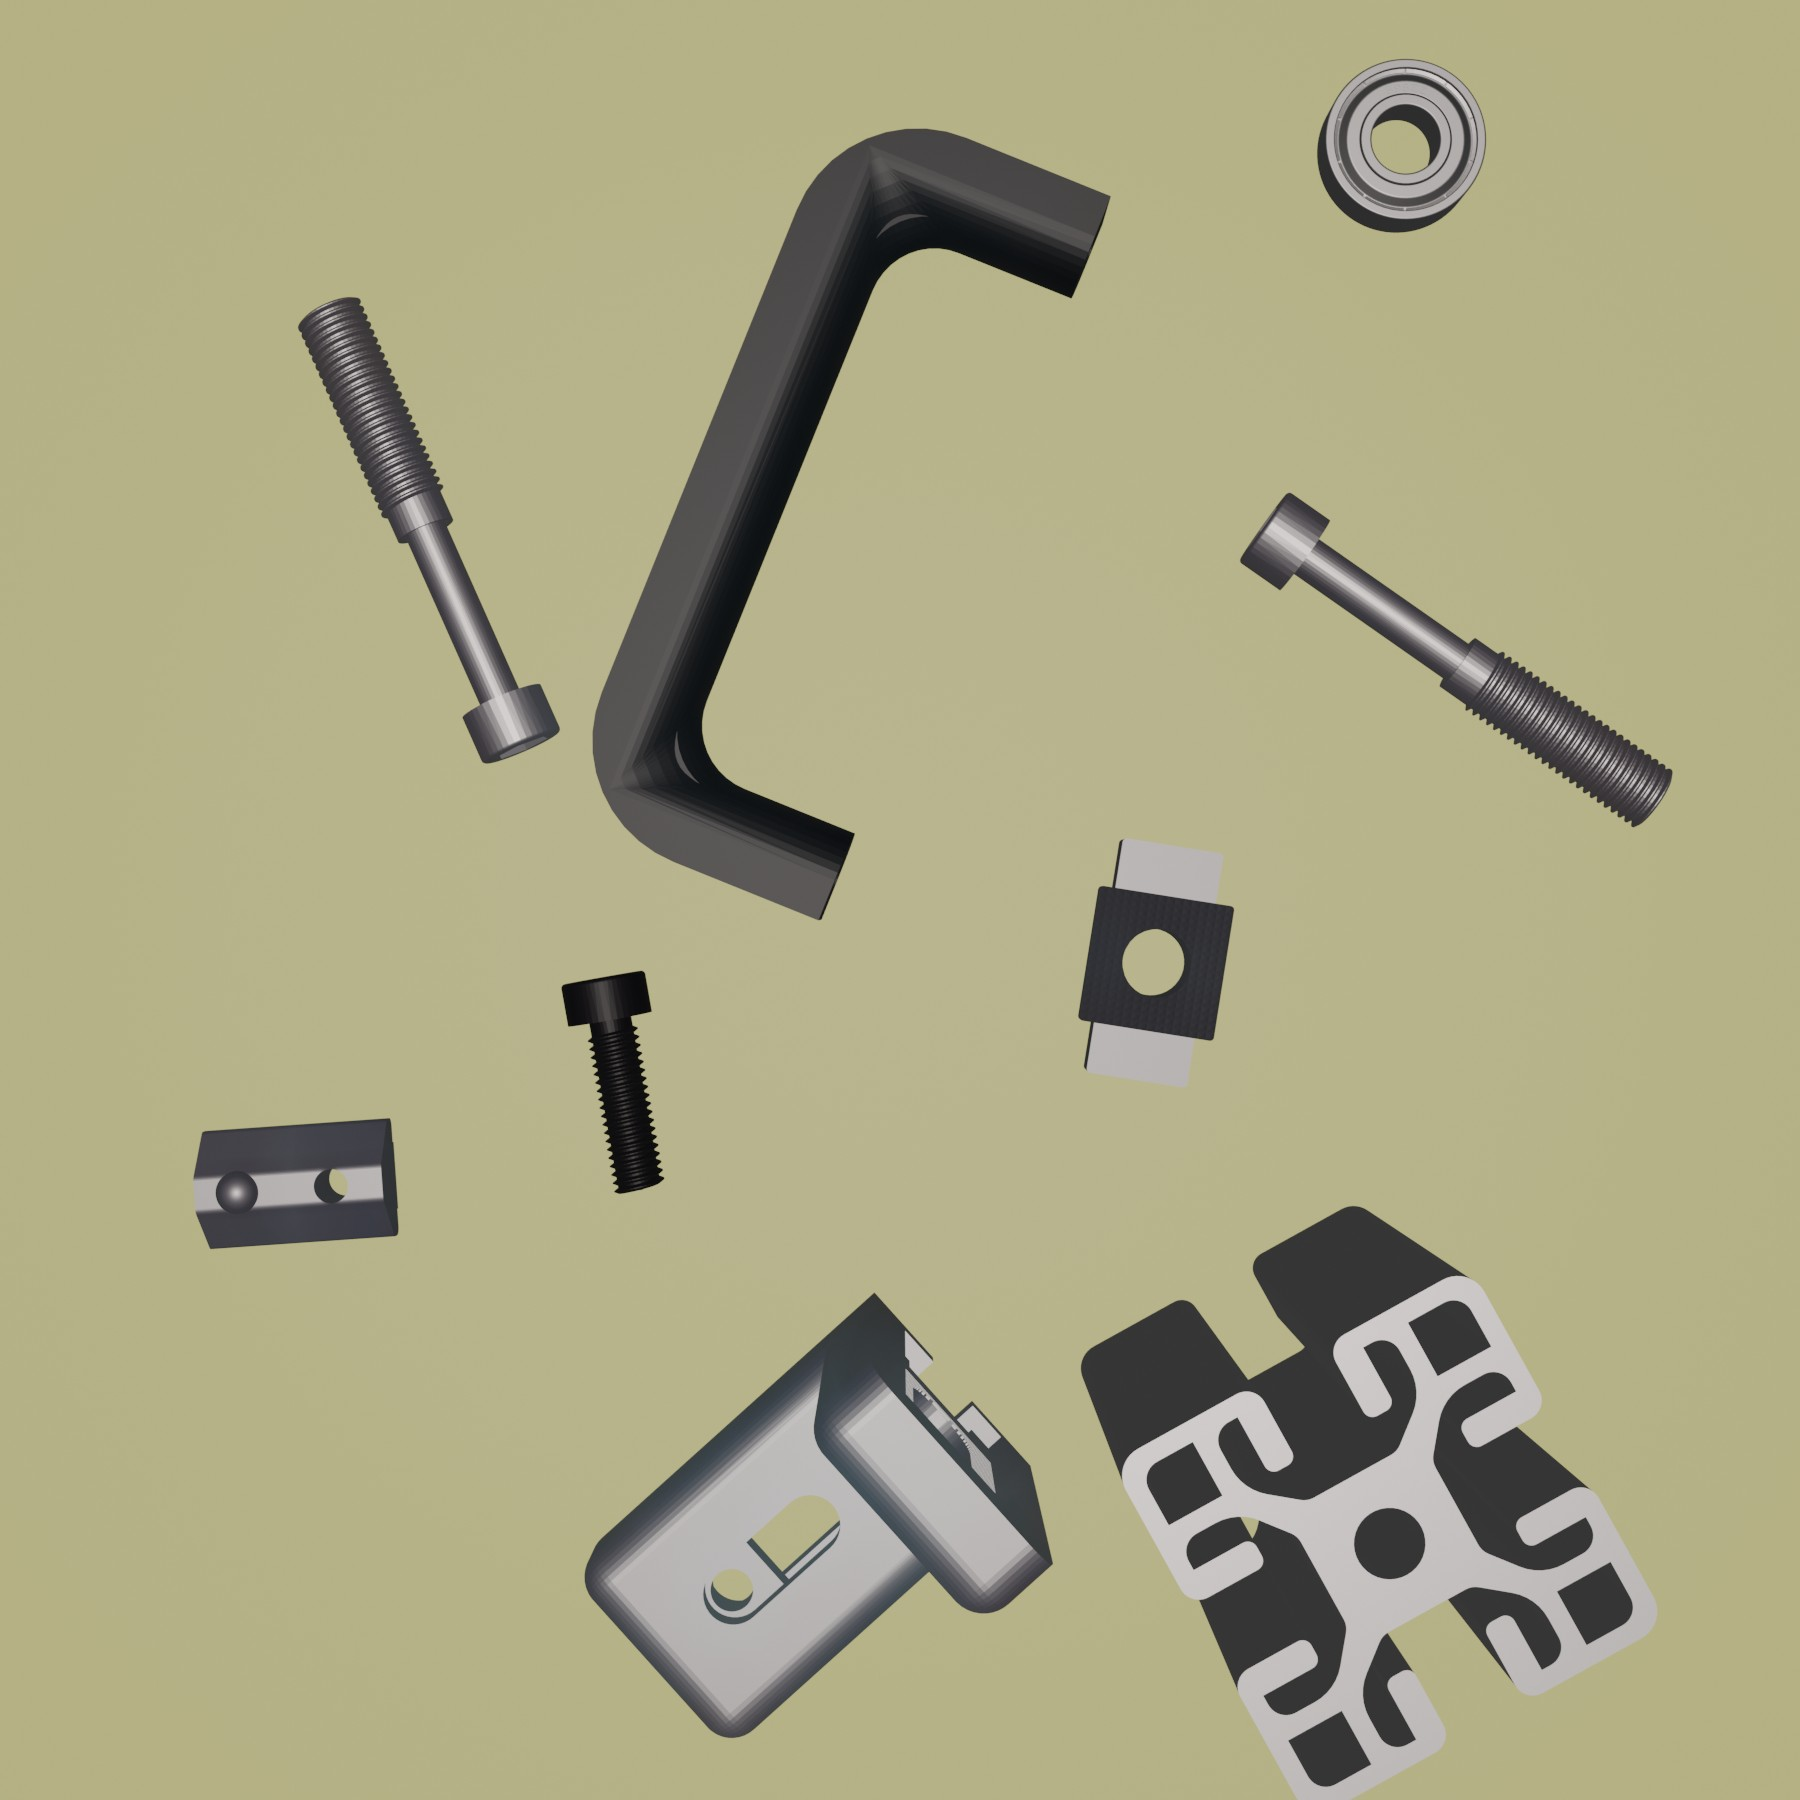Aluminium Extension: (1078, 1203, 1663, 1800)
Ball Bearing: (1315, 54, 1488, 236)
Multiwinkel: (582, 1291, 1055, 1739)
Pull Handle: (590, 125, 1113, 925)
Shoulder Socket Head Cap Screw: (1240, 490, 1675, 831), (297, 293, 564, 768)
Socket Head Cap Screw: (559, 969, 668, 1197)
T Nut Square: (1076, 832, 1238, 1091)
T Spring Nut: (188, 1114, 402, 1253)
